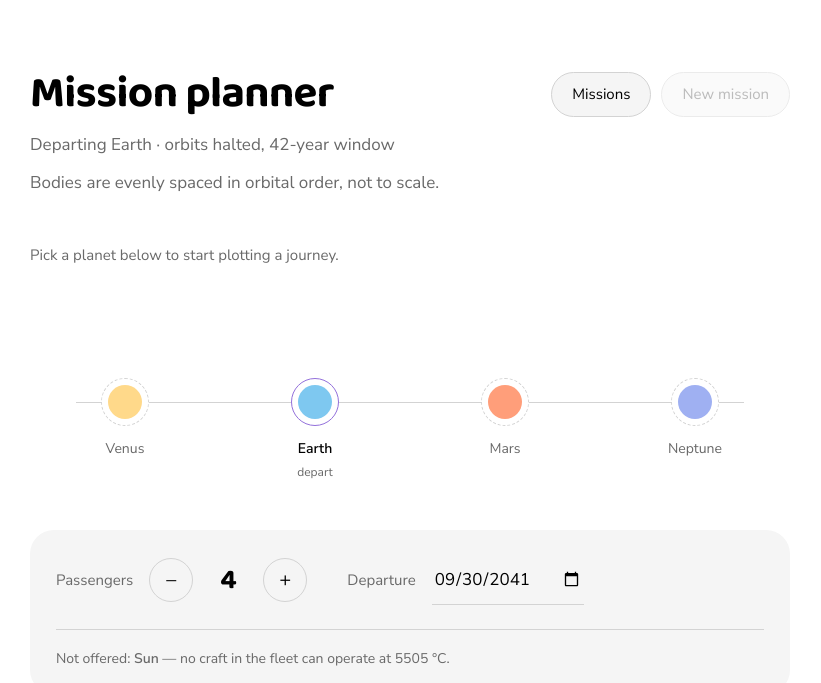
Test: planner screen › does not offer a ruled-out craft as a choice
Click the button "Mars": (505, 426) x1=410 y1=370 x2=600 y2=482
(page scrolled)
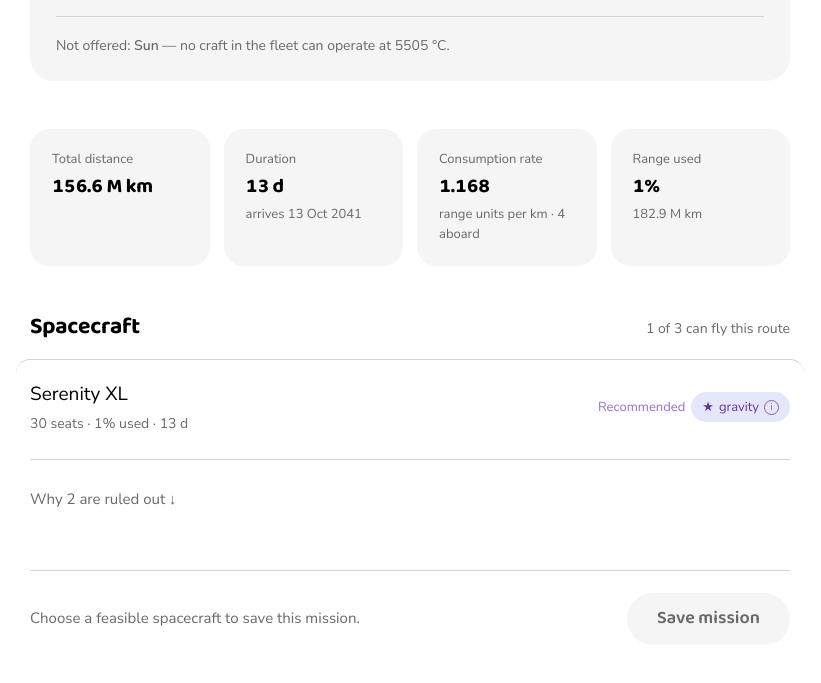
Expected: the text "Serenity XL" is shown, x1=30 y1=381 x2=128 y2=407
Expected: the button "Serenity XL" is shown, x1=16 y1=359 x2=804 y2=455
